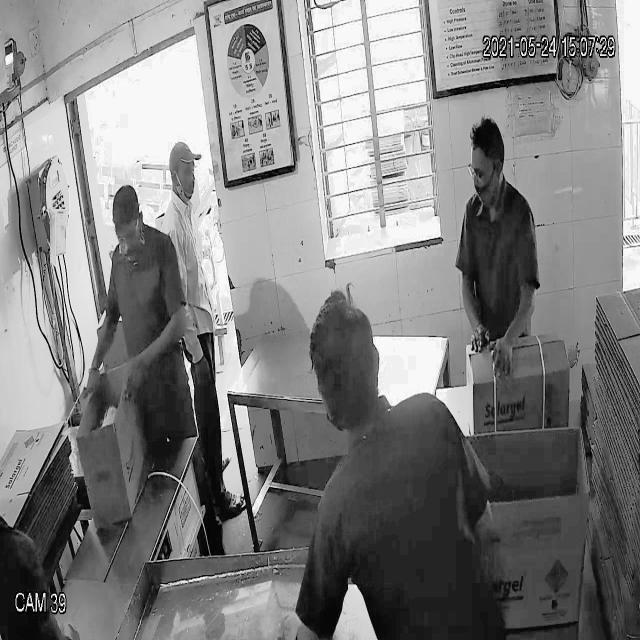glasses: (111, 214, 143, 252), (467, 154, 501, 186)
